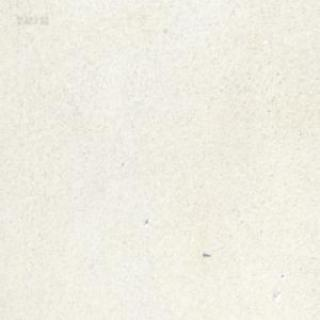Nailtrack_idkeyframe: (202, 251, 210, 256)
